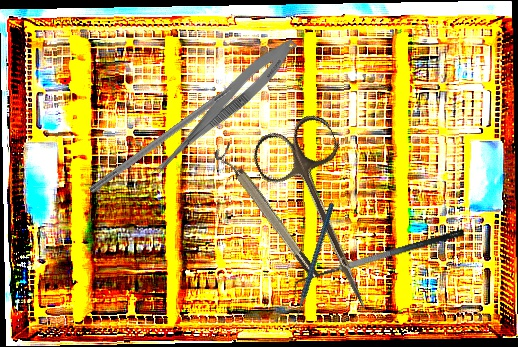Chopper: (257, 202, 374, 334)
Fixation Ring: (212, 141, 321, 285)
Hook Surgical: (88, 69, 257, 196)
Iris Scissors: (246, 109, 406, 324)
Micro Scissor: (142, 30, 303, 190)
Spatula Surgical: (288, 227, 469, 298)
